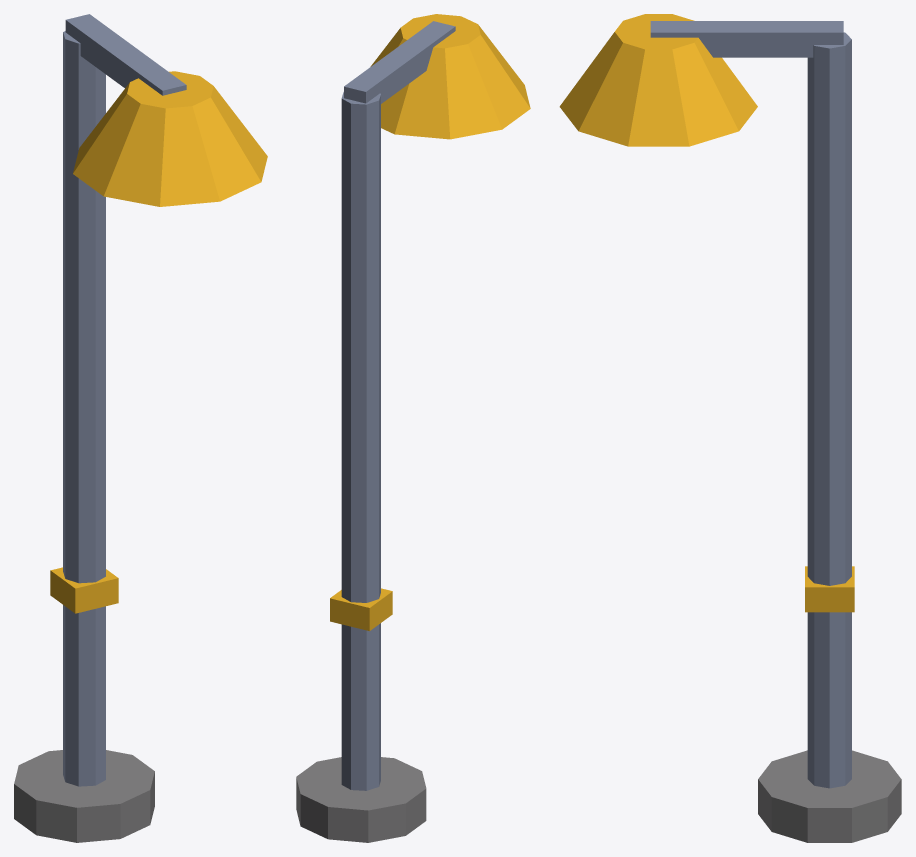
Rendered from lamp.glb.
3 views of the same model, side by side, from view 1: azimuth 30°, elevation 25°; view 2: azimuth 150°, elevation 25°; view 3: azimuth 270°, elevation 25° (orthographic). The views are drawn at different scales.
Parts seen in each view (by area): view 1: lamp; view 2: lamp; view 3: lamp.
Boxes of the visible parts, x1,y1,x2,y2 form: lamp: [14, 14, 267, 842]; lamp: [296, 14, 530, 842]; lamp: [559, 14, 901, 842].
Bounding box in the file's own units: 0.6848 × 3.15 × 1.24.
